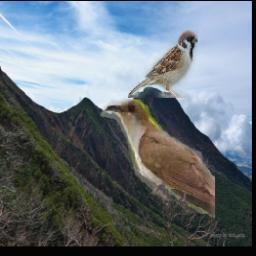Cuckoo: (100, 100, 215, 220)
Sparrow: (128, 31, 198, 99)
